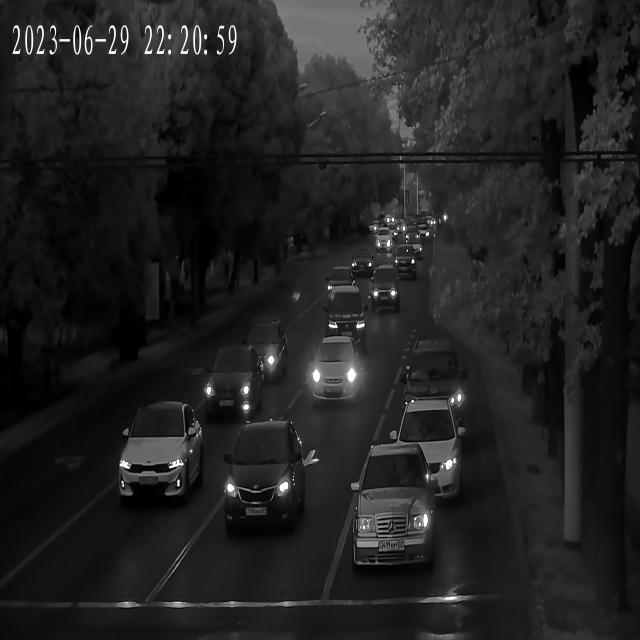Car: (347, 442, 439, 572), (374, 398, 466, 507), (112, 399, 206, 505), (224, 422, 307, 532), (392, 338, 468, 423), (197, 348, 266, 423), (232, 321, 290, 387), (312, 337, 364, 409), (326, 286, 374, 345), (369, 272, 402, 314), (326, 267, 361, 304), (348, 252, 376, 276), (391, 246, 416, 272), (402, 241, 422, 259), (375, 234, 392, 250), (412, 227, 429, 242)
